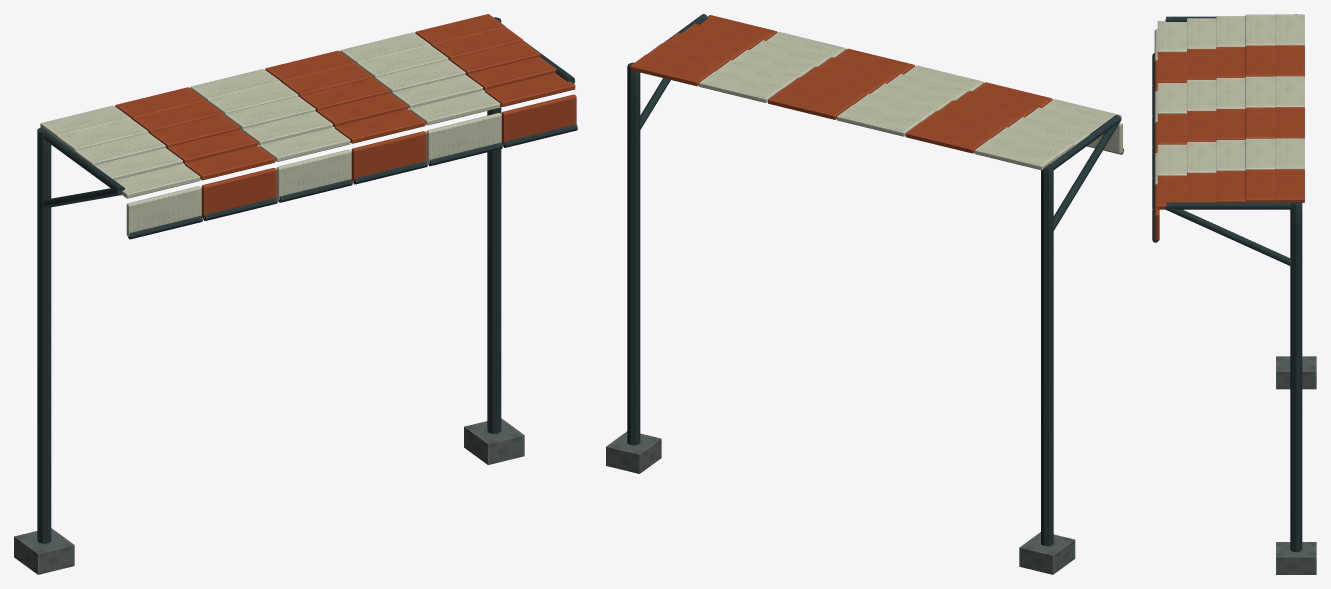
File: street_awning.fbx
3 views of the same model, side by side, from view 1: azimuth 30°, elevation 25°; view 2: azimuth 150°, elevation 25°; view 3: azimuth 270°, elevation 25° (orthographic). The views are drawn at different scales.
Parts seen in each view (by area): view 1: street_awning__upright, street_awning__upright.001, street_awning__front_scallop, street_awning__front_scallop.003, street_awning__front_scallop.005, street_awning__front_scallop.001, street_awning__front_scallop.002, street_awning__front_scallop.004, street_awning__foot_anchor, street_awning__foot_anchor.001, street_awning__fabric_segment.019, street_awning__fabric_segment.024 (+30 smaller); view 2: street_awning__upright.001, street_awning__upright, street_awning__foot_anchor, street_awning__foot_anchor.001, street_awning__fabric_segment, street_awning__fabric_segment.015, street_awning__fabric_segment.025, street_awning__fabric_segment.005, street_awning__fabric_segment.010, street_awning__fabric_segment.020, street_awning__fabric_segment.001, street_awning__fabric_segment.006 (+24 smaller); view 3: street_awning__upright.001, street_awning__foot_anchor.001, street_awning__fabric_segment.026, street_awning__foot_anchor, street_awning__triangular_bracket.003, street_awning__fabric_segment.025, street_awning__triangular_bracket.002, street_awning__fabric_segment, street_awning__fabric_segment.005, street_awning__fabric_segment.010, street_awning__fabric_segment.015, street_awning__fabric_segment.020 (+24 smaller).
Part boxes in pixels (x1,y1,x2,y2): street_awning__upright: [37, 127, 51, 543]; street_awning__upright.001: [487, 17, 501, 433]; street_awning__front_scallop: [126, 186, 201, 236]; street_awning__front_scallop.003: [351, 131, 426, 181]; street_awning__front_scallop.005: [501, 94, 576, 145]; street_awning__front_scallop.001: [201, 168, 276, 218]; street_awning__front_scallop.002: [276, 149, 351, 200]; street_awning__front_scallop.004: [426, 113, 501, 163]; street_awning__foot_anchor: [14, 528, 74, 574]; street_awning__foot_anchor.001: [464, 418, 524, 464]; street_awning__fabric_segment.019: [334, 109, 425, 143]; street_awning__fabric_segment.024: [409, 90, 500, 125]; street_awning__upright.001: [627, 62, 640, 445]; street_awning__upright: [1041, 163, 1053, 546]; street_awning__foot_anchor: [1019, 532, 1075, 574]; street_awning__foot_anchor.001: [606, 431, 661, 473]; street_awning__fabric_segment: [974, 138, 1057, 170]; street_awning__fabric_segment.015: [768, 88, 851, 119]; street_awning__fabric_segment.025: [630, 54, 713, 86]; street_awning__fabric_segment.005: [905, 121, 988, 153]; street_awning__fabric_segment.010: [837, 105, 920, 136]; street_awning__fabric_segment.020: [699, 71, 782, 102]; street_awning__fabric_segment.001: [991, 127, 1073, 157]; street_awning__fabric_segment.006: [923, 110, 1004, 139]; street_awning__upright.001: [1290, 202, 1302, 552]; street_awning__foot_anchor.001: [1276, 542, 1316, 574]; street_awning__fabric_segment.026: [1245, 169, 1275, 202]; street_awning__foot_anchor: [1276, 356, 1316, 389]; street_awning__triangular_bracket.003: [1164, 206, 1291, 266]; street_awning__fabric_segment.025: [1275, 169, 1304, 202]; street_awning__triangular_bracket.002: [1166, 202, 1291, 209]; street_awning__fabric_segment: [1275, 14, 1304, 45]; street_awning__fabric_segment.005: [1275, 45, 1304, 76]; street_awning__fabric_segment.010: [1275, 76, 1304, 107]; street_awning__fabric_segment.015: [1275, 107, 1304, 138]; street_awning__fabric_segment.020: [1275, 138, 1304, 169].
Size of the model in its own units: 584 by 499 by 202.
Materials: 4 (4 with a texture image).
